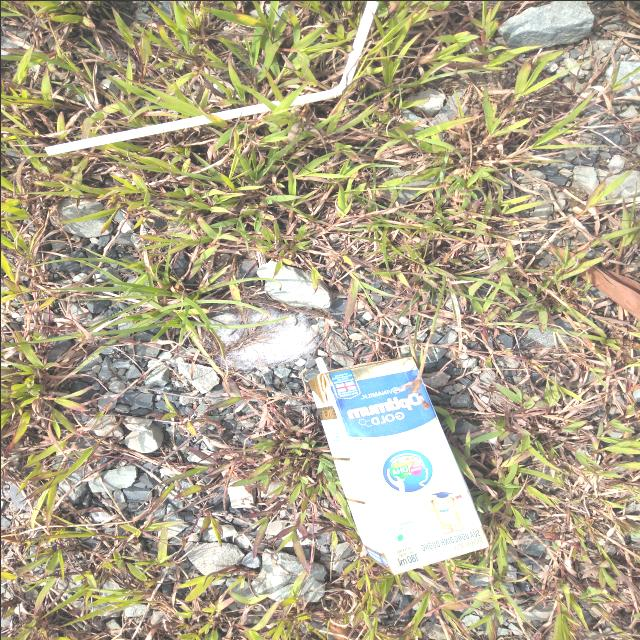Drink carton: (307, 356, 488, 574)
Plastic straw: (43, 1, 378, 155), (313, 356, 327, 372)
